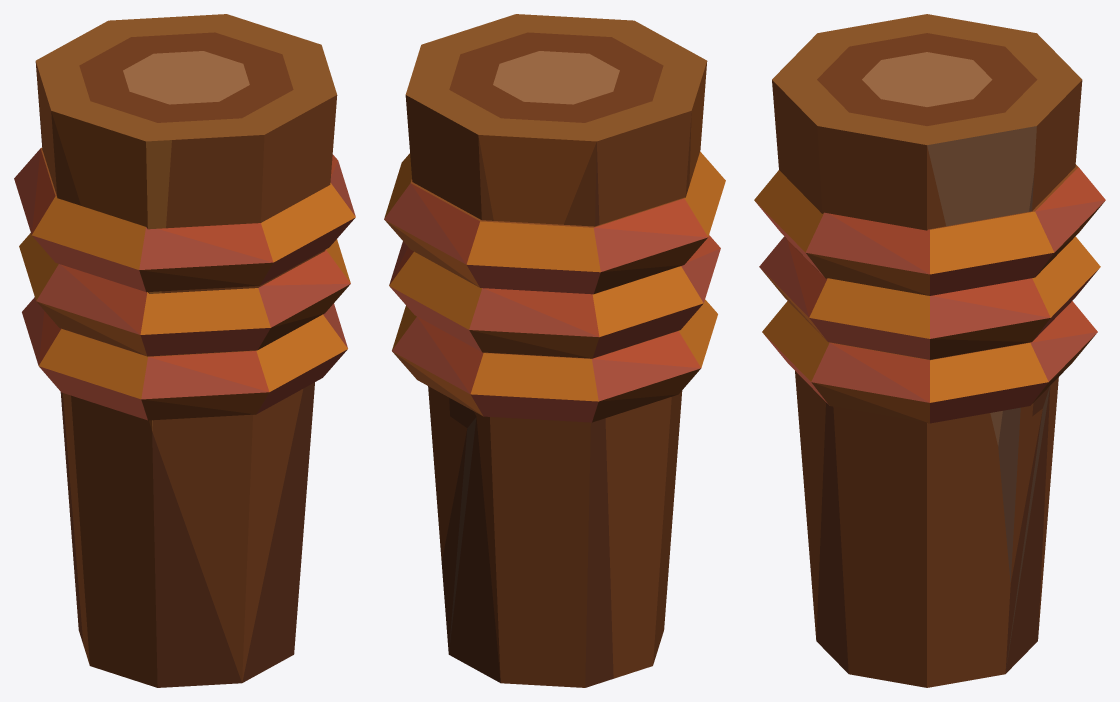
File: itch_fishing_village_fence_post.glb
3 renders of one model, left to right at view 1: azimuth 30°, elevation 25°; view 2: azimuth 150°, elevation 25°; view 3: azimuth 270°, elevation 25°, orthographic.
Visible parts, largest first — view 1: fence_post.001; view 2: fence_post.001; view 3: fence_post.001.
Part boxes in pixels (bbox=[...]): fence_post.001: bbox=[14, 14, 355, 687]; fence_post.001: bbox=[384, 14, 725, 687]; fence_post.001: bbox=[754, 14, 1105, 687].
Bounding box in the file's own units: 1.18 × 2.08 × 1.18.
